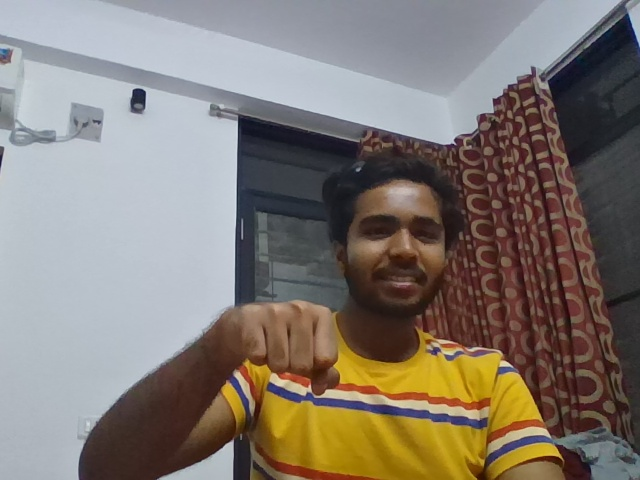Yes: (196, 276, 352, 413)
